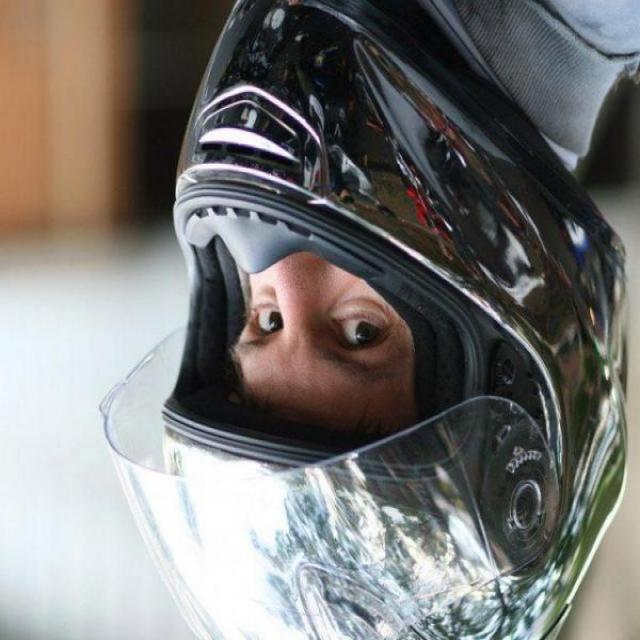Helmet: (144, 28, 611, 628)
